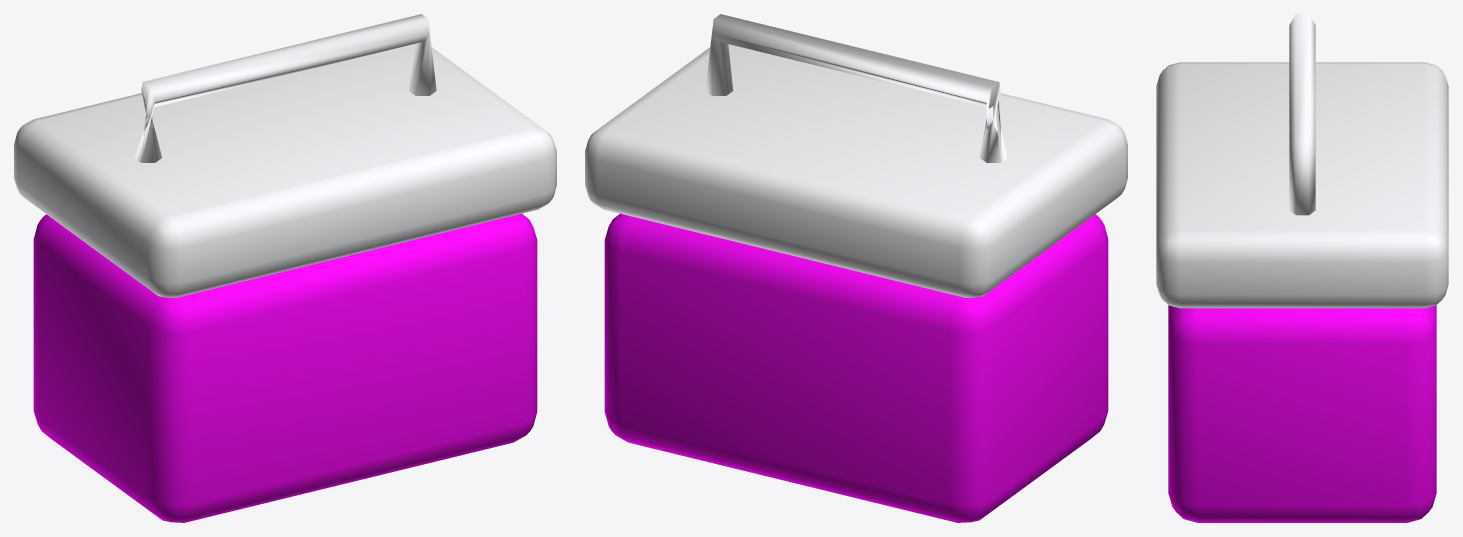
Rendered from cooler.glb.
The picture shows the model from 3 angles, left to right: view 1: azimuth 30°, elevation 25°; view 2: azimuth 150°, elevation 25°; view 3: azimuth 270°, elevation 25°; orthographic projection. The views are drawn at different scales.
Parts seen in each view (by area): view 1: cooler; view 2: cooler; view 3: cooler.
Part boxes in pixels (x1,y1,x2,y2): cooler: (14, 14, 556, 522); cooler: (585, 14, 1127, 522); cooler: (1156, 14, 1448, 522).
Size of the model in its own units: 0.74 by 0.6786 by 0.49.
